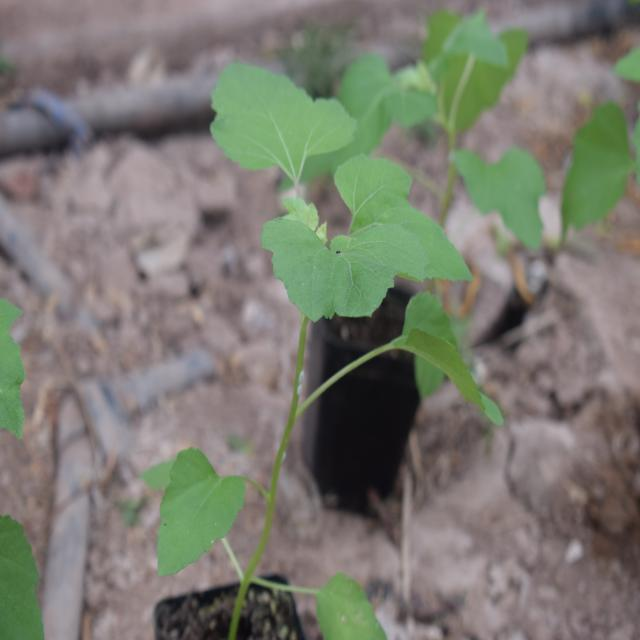cocklebur: (154, 56, 480, 548)
